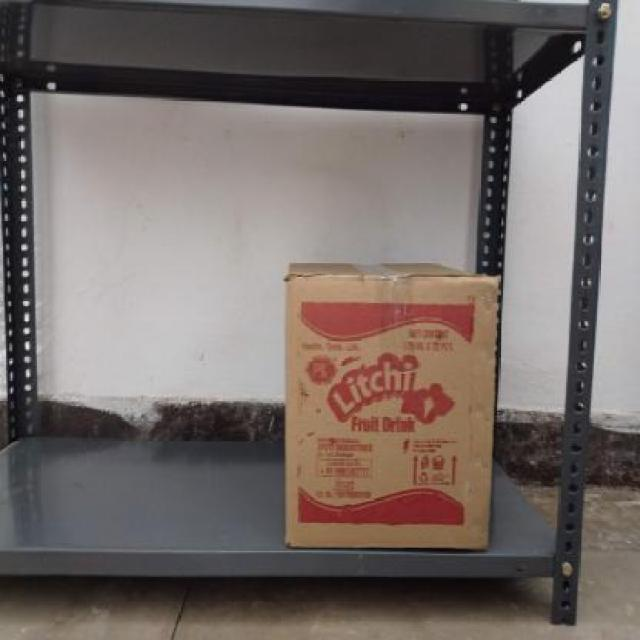box: (284, 274, 496, 552)
